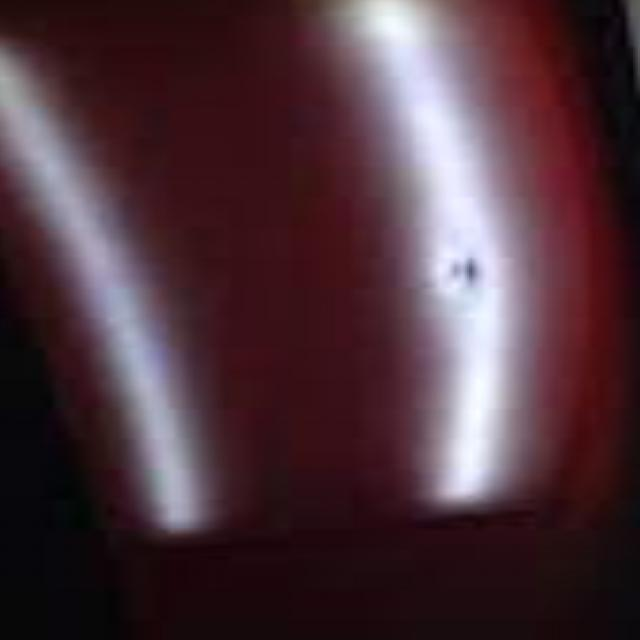dents: (408, 236, 547, 322)
